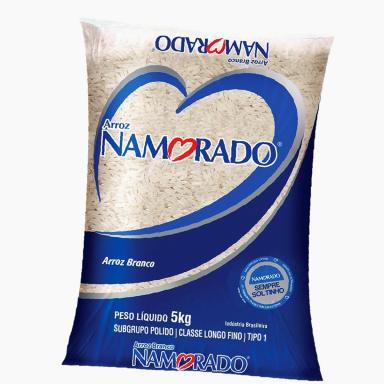rice package: (64, 21, 332, 380)
